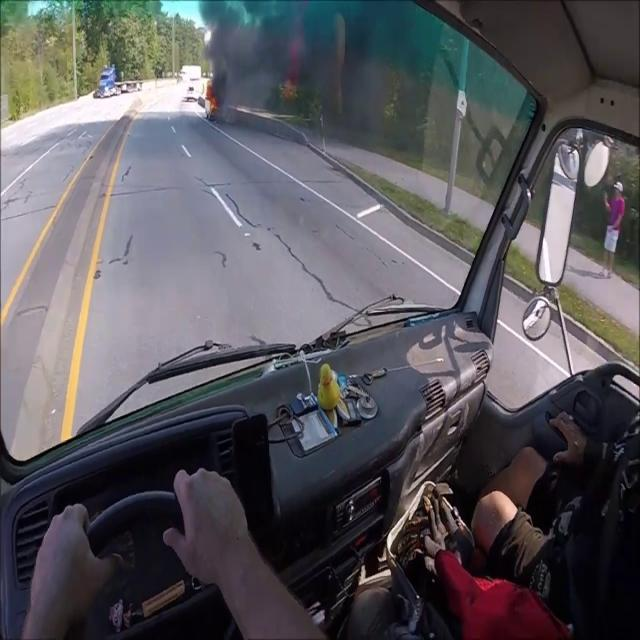Smoke: (200, 1, 310, 120)
